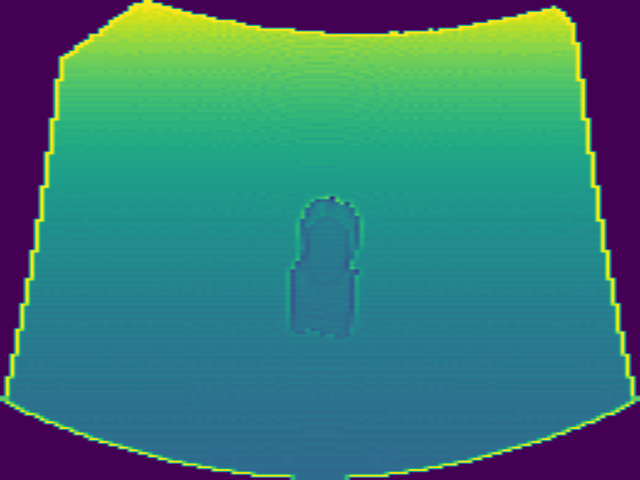car_0027: (281, 194, 365, 340)
